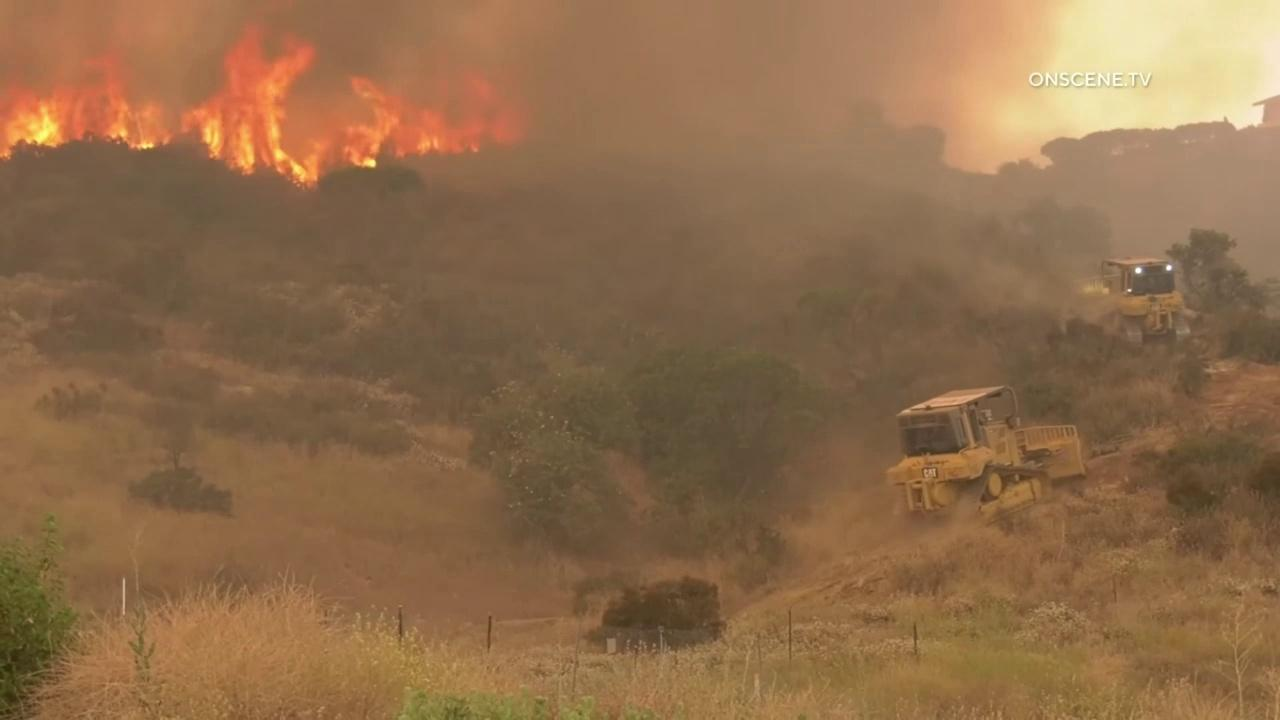fire: (0, 0, 529, 193)
smoke: (0, 0, 1280, 622)
